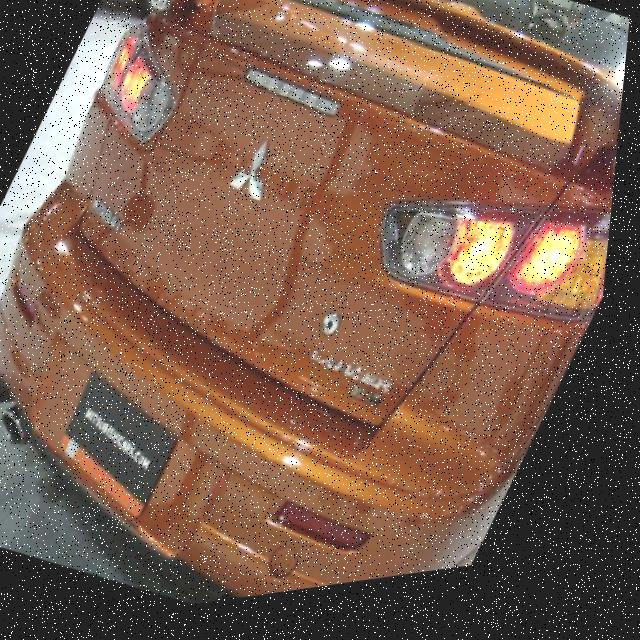license_plate: (40, 361, 209, 536)
